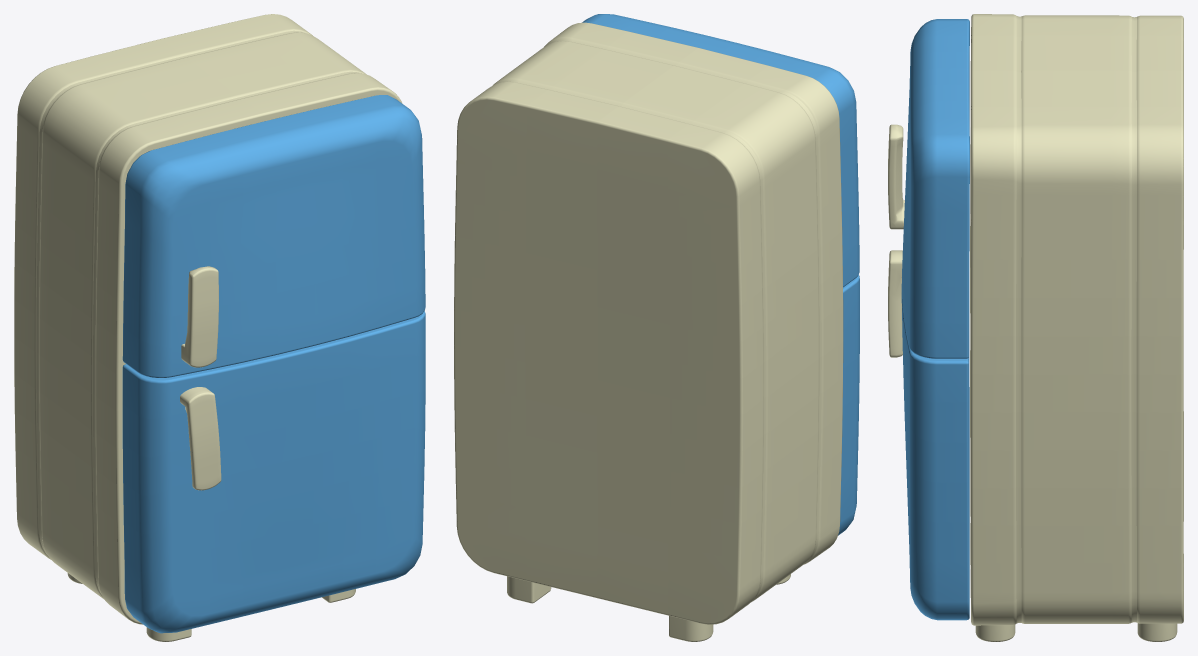
File: SM_Fridge_01.fbx
3 views of the same model, side by side, from view 1: azimuth 30°, elevation 25°; view 2: azimuth 150°, elevation 25°; view 3: azimuth 270°, elevation 25° (orthographic). The views are drawn at different scales.
Parts seen in each view (by area): view 1: Cube.033, Cube.034, Cube.035, Cube.036, Cube.038; view 2: Cube.034, Cube.033, Cube.038; view 3: Cube.034, Cube.033, Cube.035, Cube.036, Cube.038.
Boxes of the visible parts, x1,y1,x2,y2 form: Cube.033: [122, 95, 425, 633]; Cube.034: [14, 14, 402, 624]; Cube.035: [181, 266, 218, 367]; Cube.036: [180, 387, 221, 490]; Cube.038: [67, 573, 355, 641]; Cube.034: [454, 22, 843, 624]; Cube.033: [582, 14, 859, 535]; Cube.038: [507, 574, 790, 641]; Cube.034: [970, 14, 1183, 625]; Cube.033: [901, 19, 969, 620]; Cube.035: [888, 124, 904, 229]; Cube.036: [888, 250, 902, 357]; Cube.038: [975, 623, 1177, 641].
Bounding box in the file's own units: 124 × 206 × 106.
